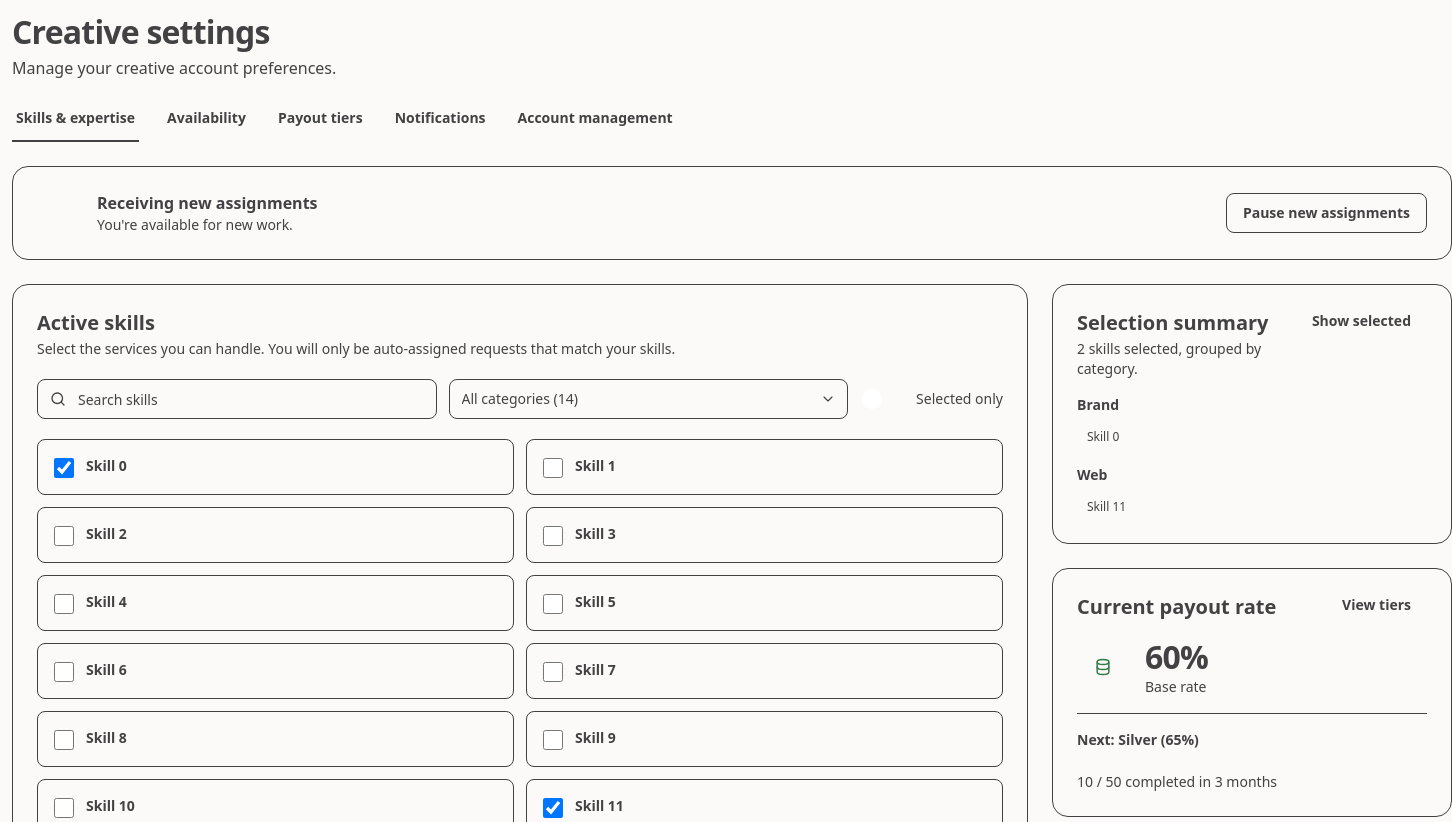
Scenario: Creative settings: skills › filters to selected skills from the summary
Expected: the checkbox labelled "Skill 0" is shown, [54,458,74,478]
What coordinates should you click on to do the following:
click the button "Show selected"
I would click on:
 (1361, 321)
Its box is [1296,301,1427,341].
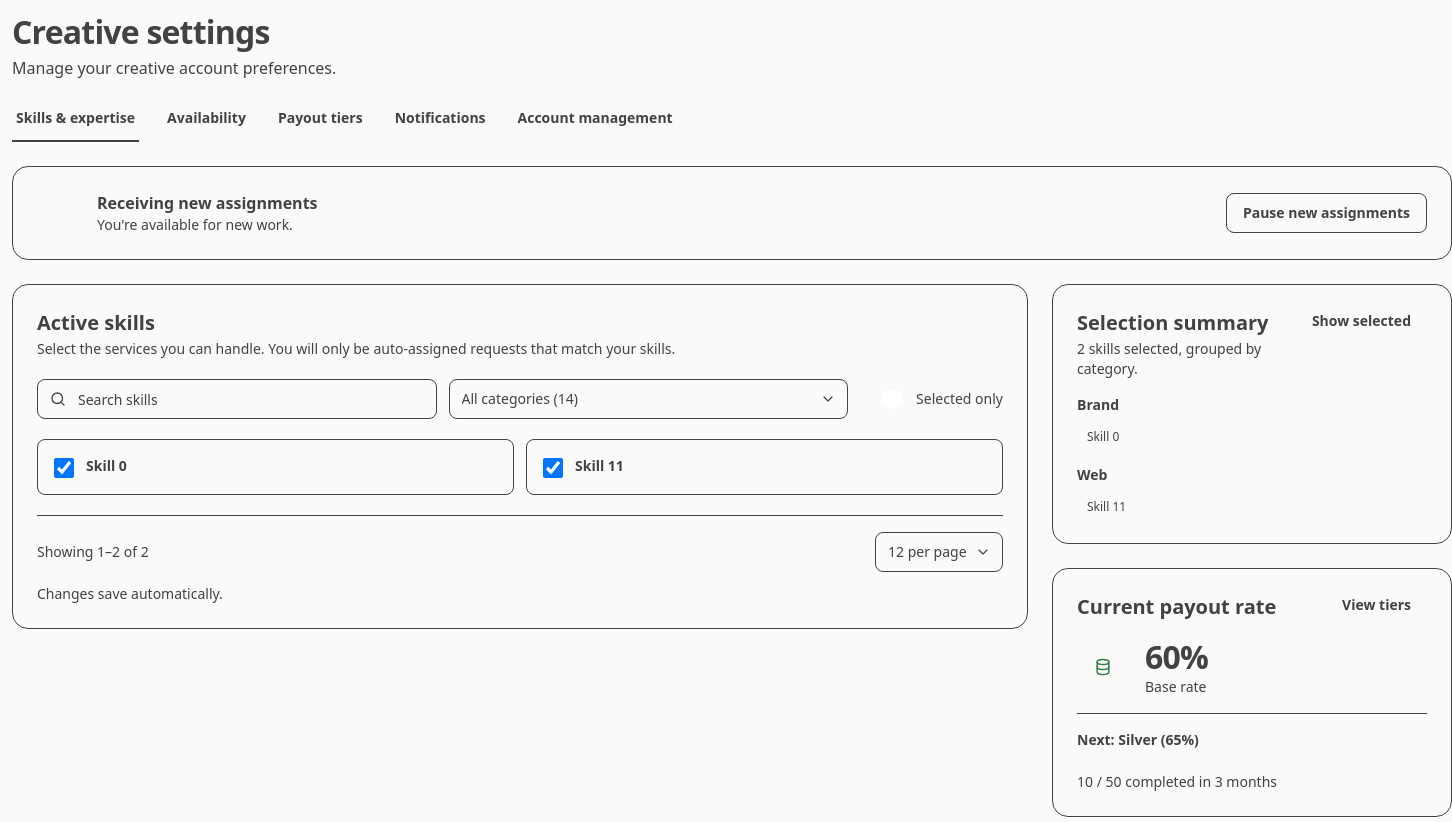
Result: the number of checkboxes is 2 at [54,458,74,478]; [543,458,563,478]
